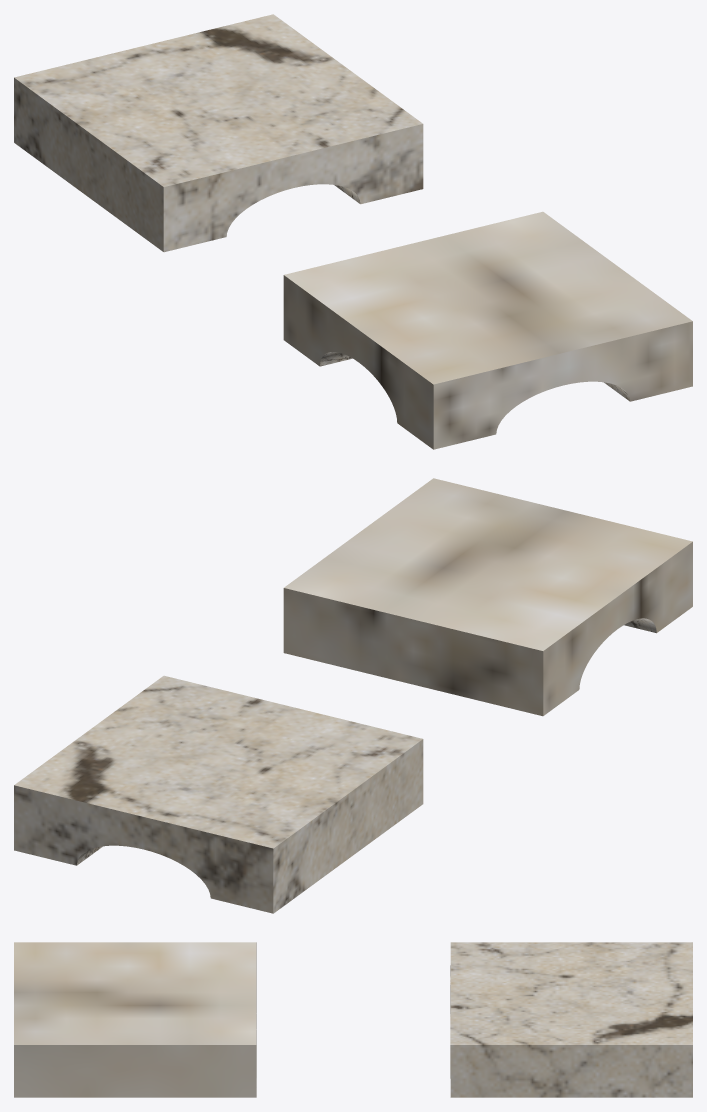
File: Ceiling.fbx
The picture shows the model from 3 angles, top to bottom: view 1: azimuth 30°, elevation 25°; view 2: azimuth 150°, elevation 25°; view 3: azimuth 270°, elevation 25°; orthographic projection. The views are drawn at different scales.
Parts seen in each view (by area): view 1: Ceiling, Ceiling_corner; view 2: Ceiling_corner, Ceiling; view 3: Ceiling, Ceiling_corner.
Part boxes in pixels (x1,y1,x2,y2): Ceiling: (14,14,423,252); Ceiling_corner: (283,211,692,449); Ceiling_corner: (283,478,692,716); Ceiling: (14,675,423,913); Ceiling: (450,942,692,1097); Ceiling_corner: (14,942,256,1097).
Size of the model in its own units: 2.5 by 7 by 0.6.
1 material, 1 textured.
